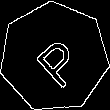P_NW: (24, 26, 84, 88)
